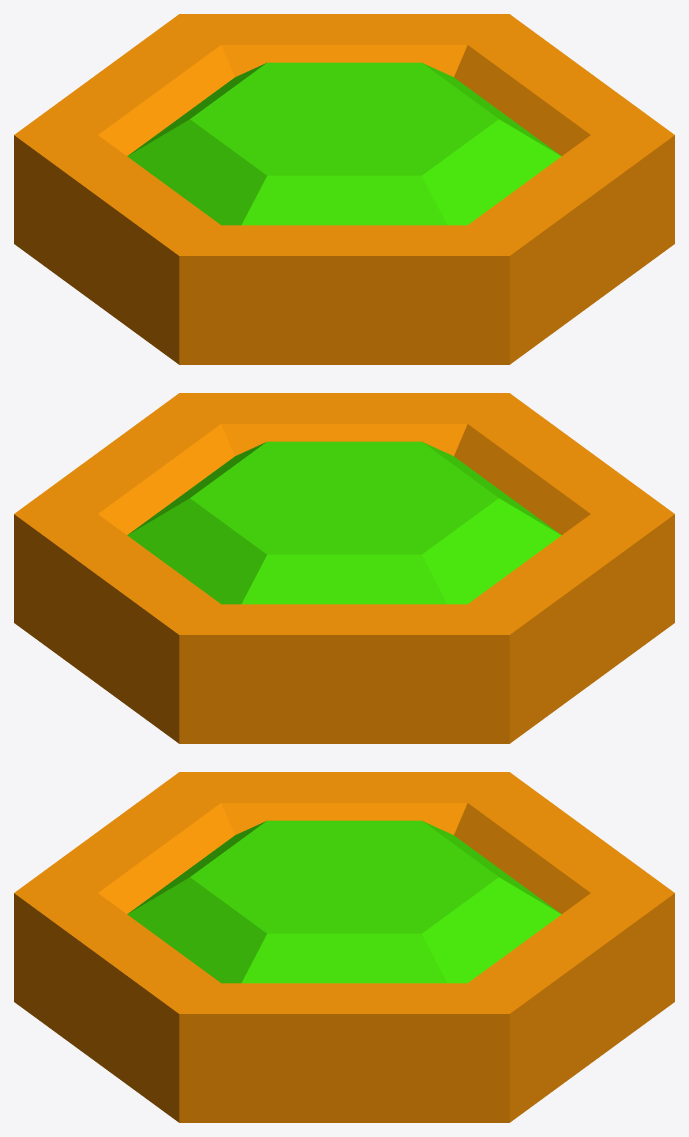
3 views of the same model, one above another, from view 1: azimuth 30°, elevation 25°; view 2: azimuth 150°, elevation 25°; view 3: azimuth 270°, elevation 25° (orthographic).
Parts seen in each view (by area): view 1: Cylinder.001; view 2: Cylinder.001; view 3: Cylinder.001.
Boxes of the visible parts, x1=… form: Cylinder.001: x1=14, y1=14, x2=674, y2=364; Cylinder.001: x1=14, y1=393, x2=674, y2=743; Cylinder.001: x1=14, y1=772, x2=674, y2=1122.
Bounding box in the file's own units: 173 × 41.65 × 200.
